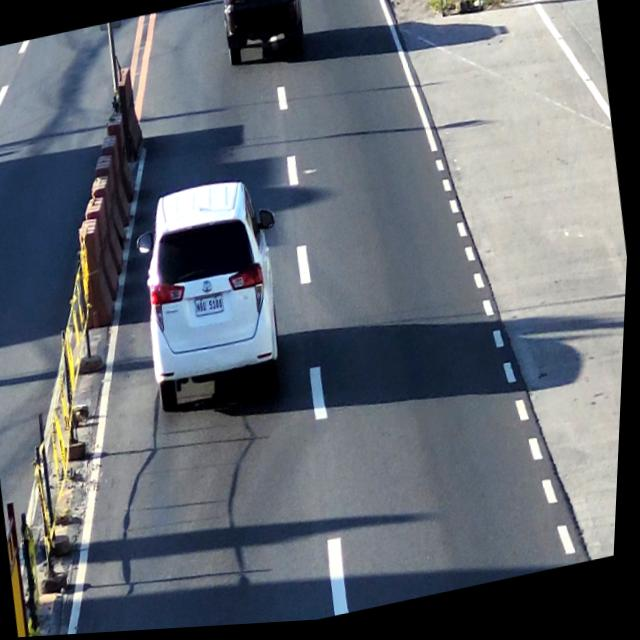Car: (132, 176, 298, 418), (218, 0, 309, 78)
License-Plate: (193, 292, 228, 322), (250, 0, 271, 7)
